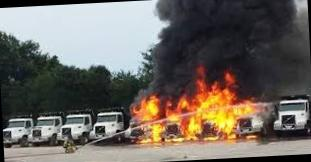Fire: (134, 80, 263, 142)
Smoke: (142, 0, 311, 105)
